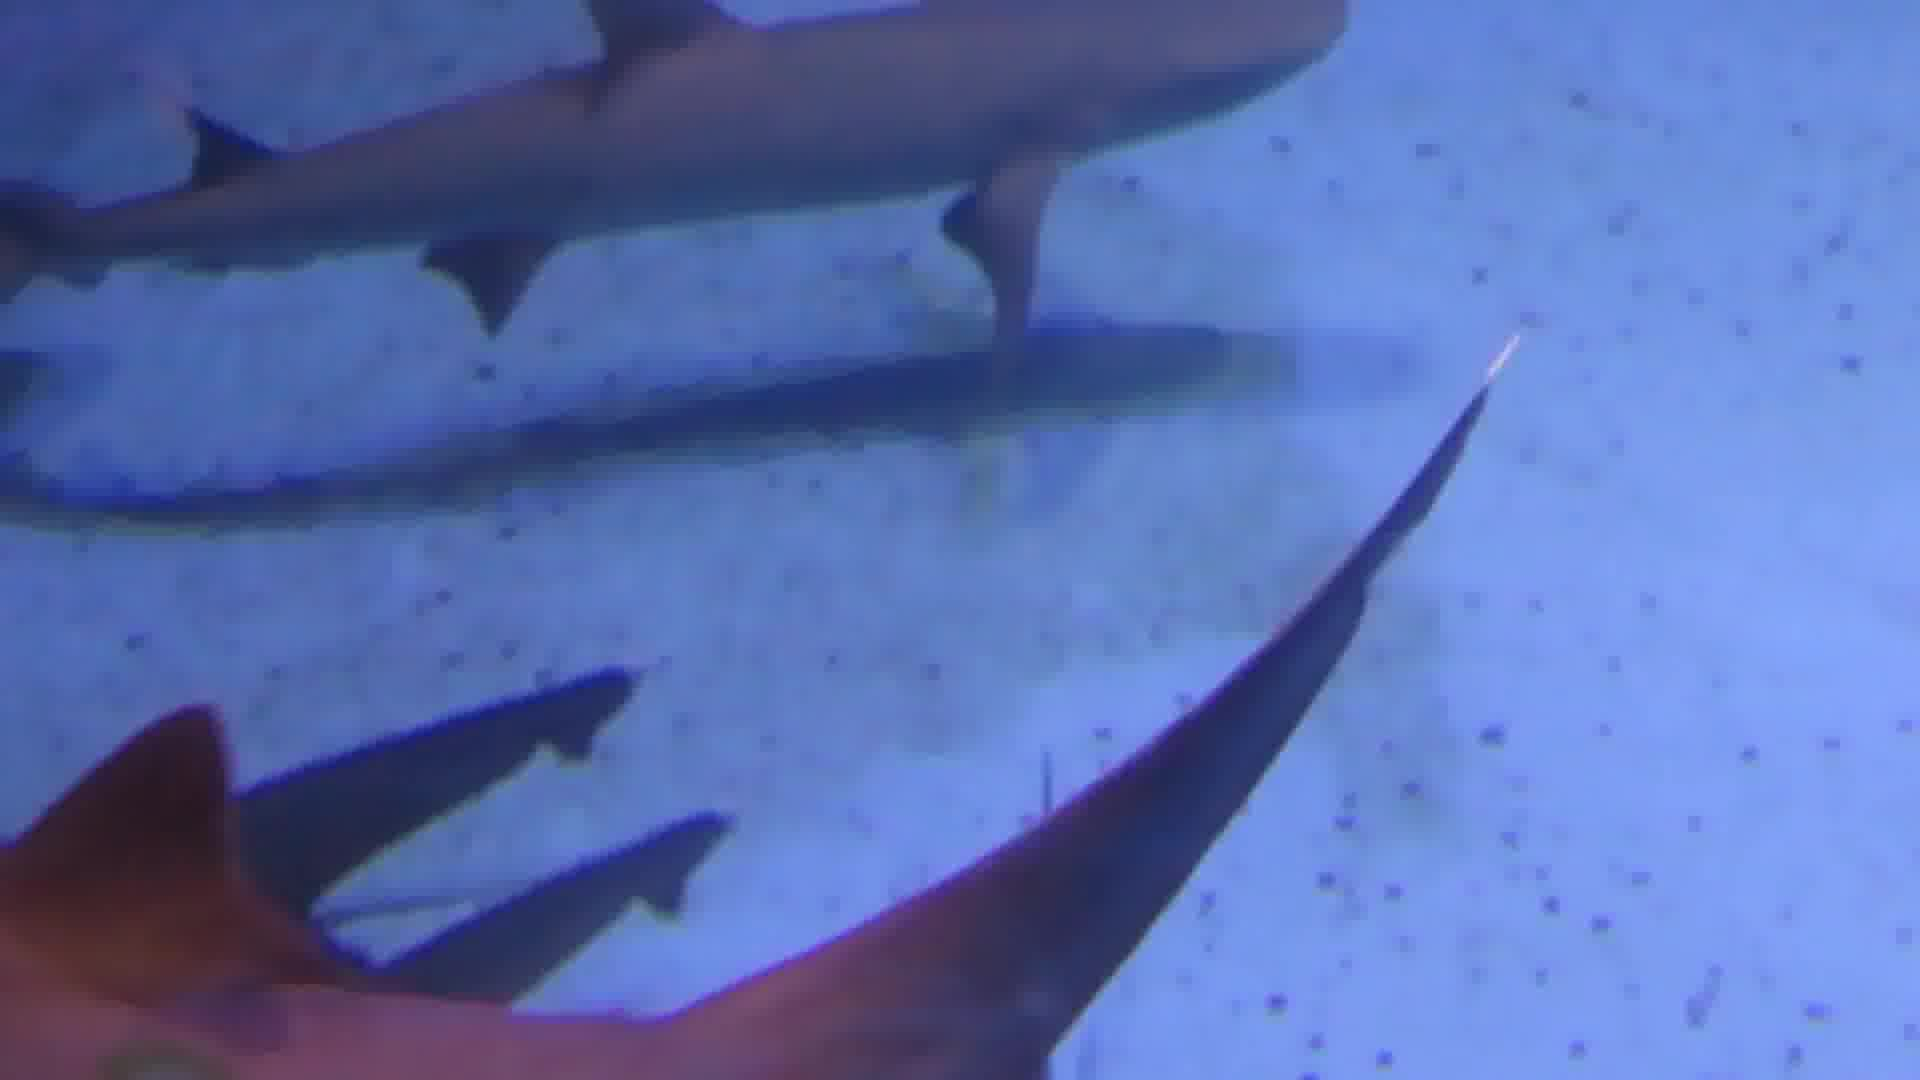Triaenodon obesus: (1, 555, 1458, 1080), (1, 1, 1458, 524)
